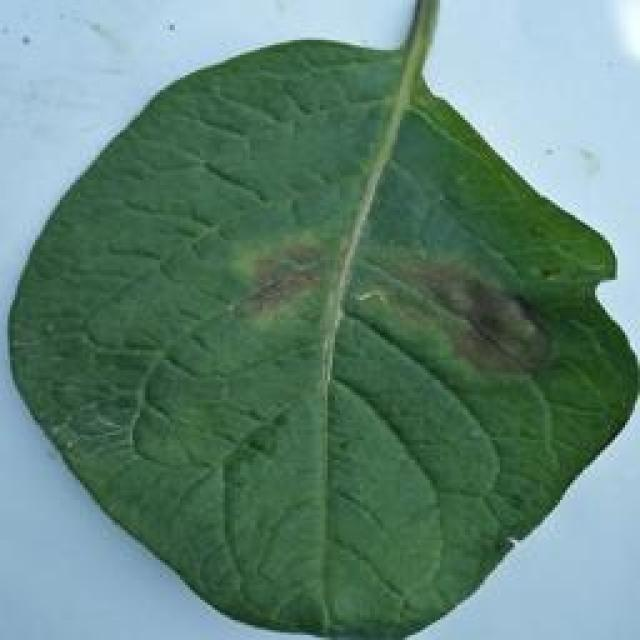Potato_Late_Blight: (12, 21, 627, 635)
